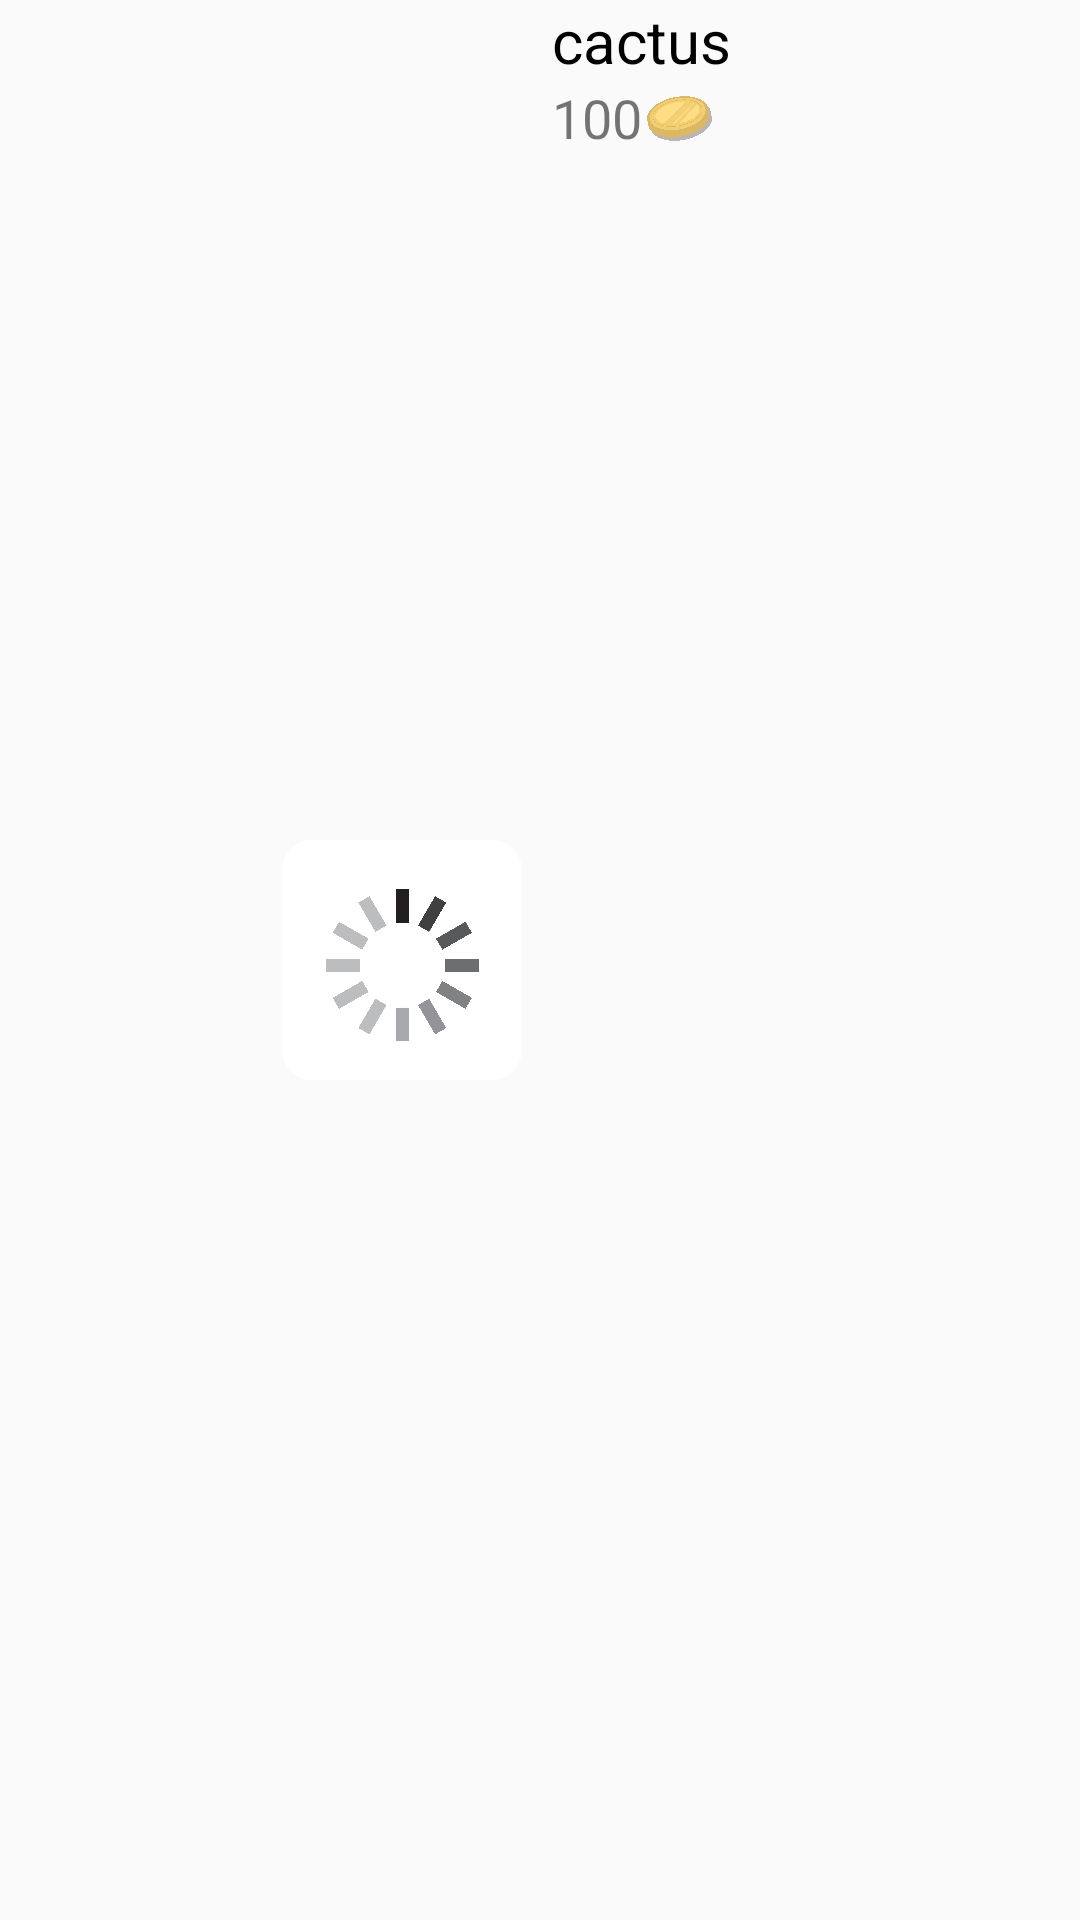

Named icons in this screenshot (1080 × 1920) and their bounding boxes, [x1,y1,x2,y2]:
coin: [647,96,712,141]
loading: [326,889,479,1041]
